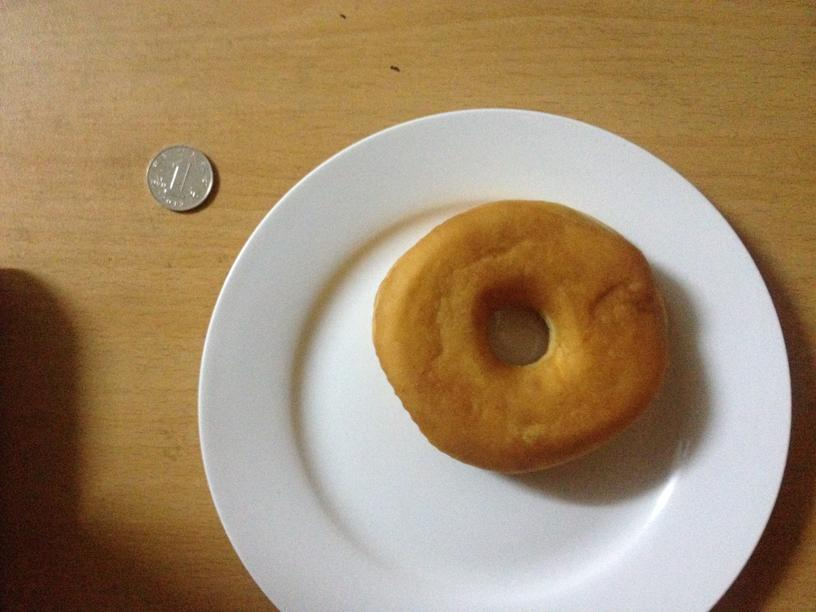coin: (144, 143, 216, 212)
doughnut: (375, 203, 671, 473)
